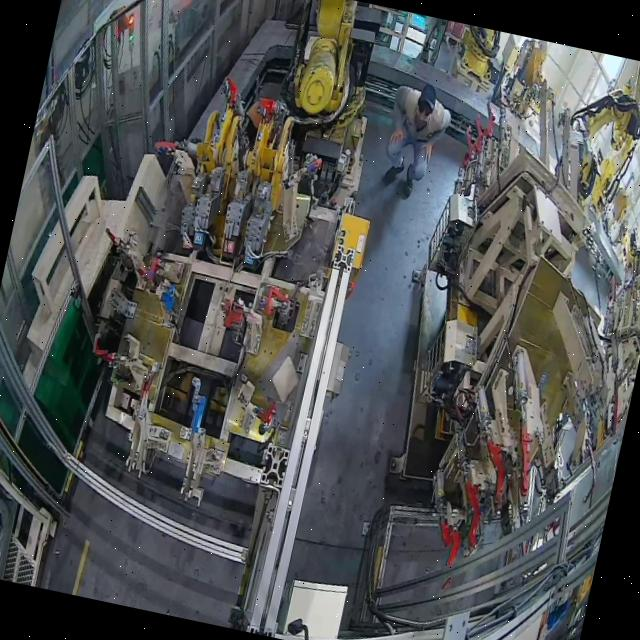Person: (374, 76, 458, 203)
